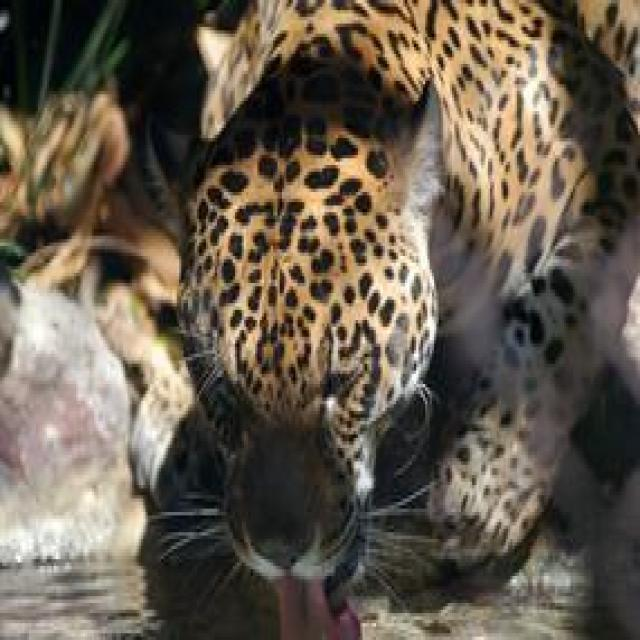Leopard: (170, 0, 635, 633)
